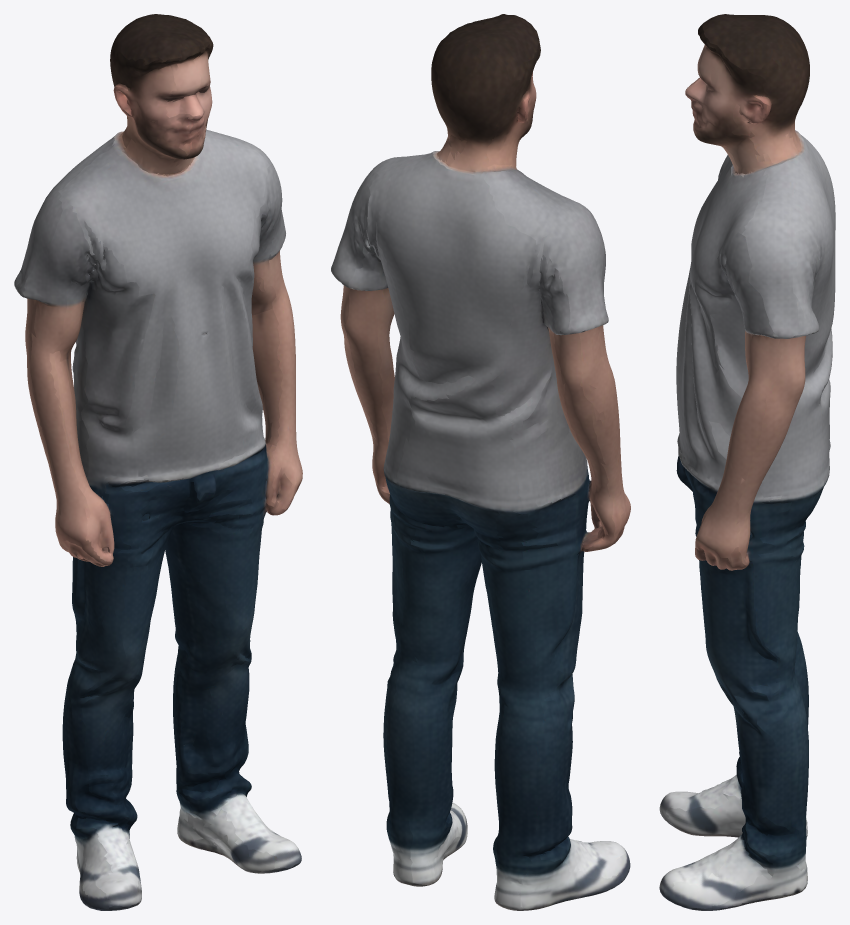
File: adult-person.glb
The picture shows the model from 3 angles, left to right: view 1: azimuth 30°, elevation 25°; view 2: azimuth 150°, elevation 25°; view 3: azimuth 270°, elevation 25°; orthographic projection.
Parts seen in each view (by area): view 1: world; view 2: world; view 3: world.
Part boxes in pixels (bbox=[...]): world: bbox=[14, 14, 302, 910]; world: bbox=[331, 14, 630, 910]; world: bbox=[659, 14, 835, 910].
Size of the model in its own units: 0.5907 by 1.8 by 0.3418.
1 material, 1 textured.
